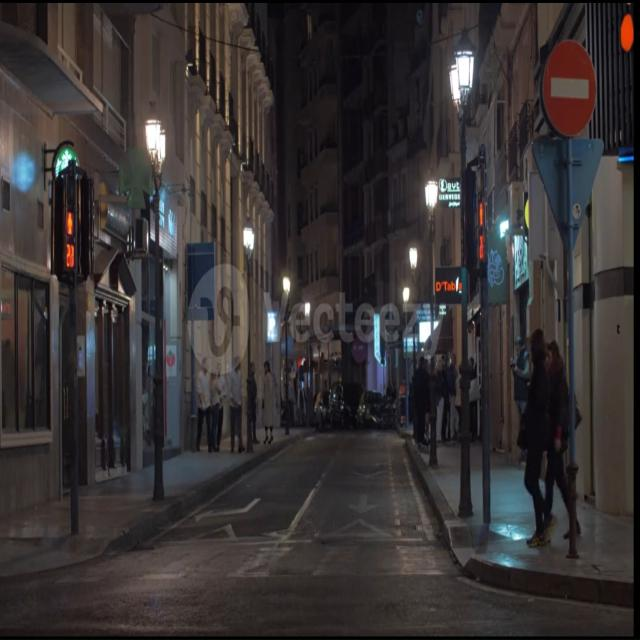pedestrian: (518, 329, 571, 546)
